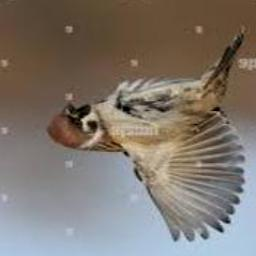Sparrow: (45, 25, 244, 242)
